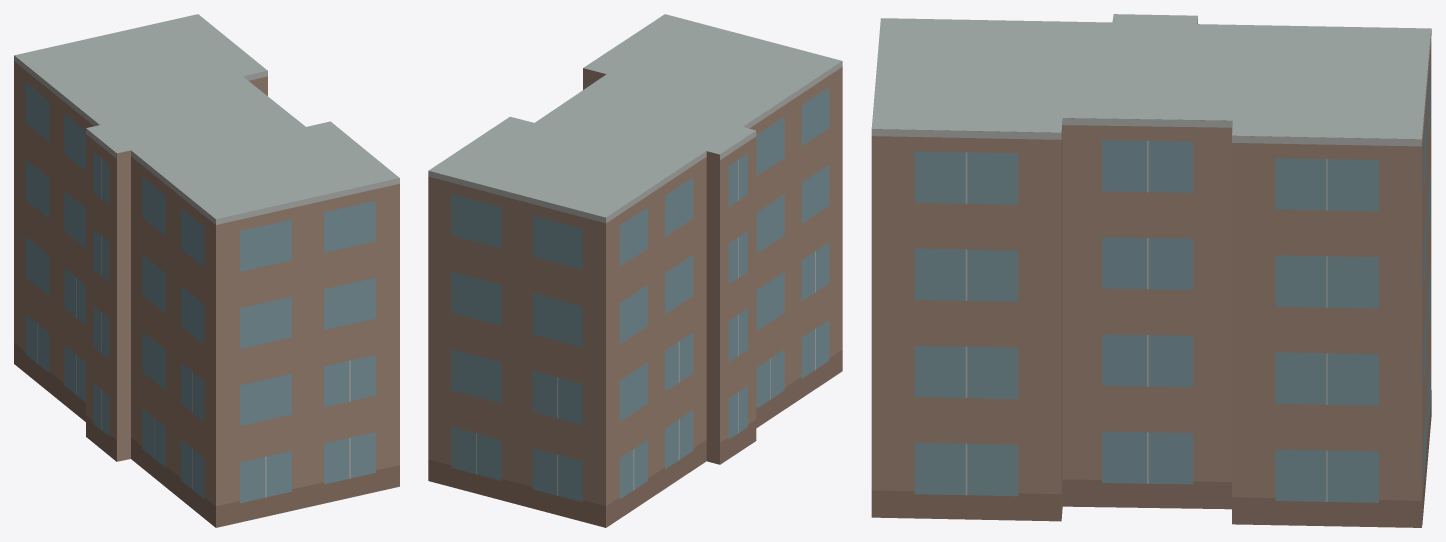
The model's file is survey-upis-32700239.glb.
3 views of the same model, side by side, from view 1: azimuth 30°, elevation 25°; view 2: azimuth 150°, elevation 25°; view 3: azimuth 270°, elevation 25° (orthographic). The views are drawn at different scales.
Visible parts, largest first — view 1: survey-upis-32700239.tmp; view 2: survey-upis-32700239.tmp; view 3: survey-upis-32700239.tmp.
Boxes of the visible parts, box(x1,y1,x2,y2) form: survey-upis-32700239.tmp: box(14, 14, 399, 527); survey-upis-32700239.tmp: box(428, 14, 842, 527); survey-upis-32700239.tmp: box(871, 14, 1431, 527).
Bounding box in the file's own units: 9.13 × 13.2 × 17.24.
